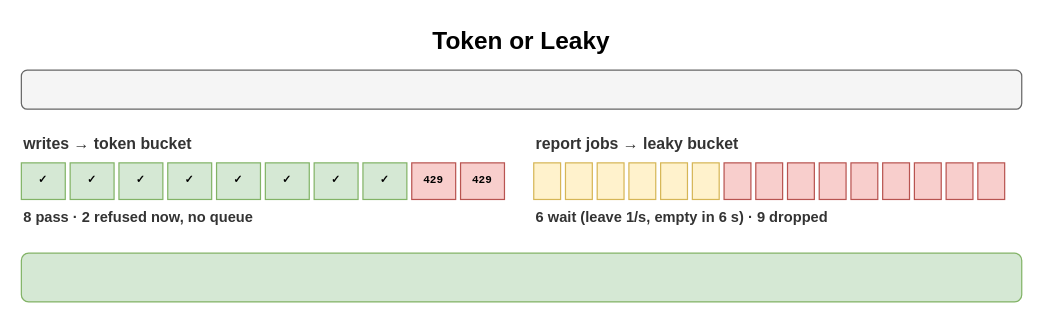
Image size: 1043x323. Some labels were removed from this diagram. The box of each missing label's shape, as (x1, y1, x2, y2) in pixels:
10 user-facing writes (capacity 8) and 15 report jobs (queue 6, 1/s): (20, 69, 1022, 109)
Answer: (8, 2) (6, 9): (20, 252, 1022, 302)
